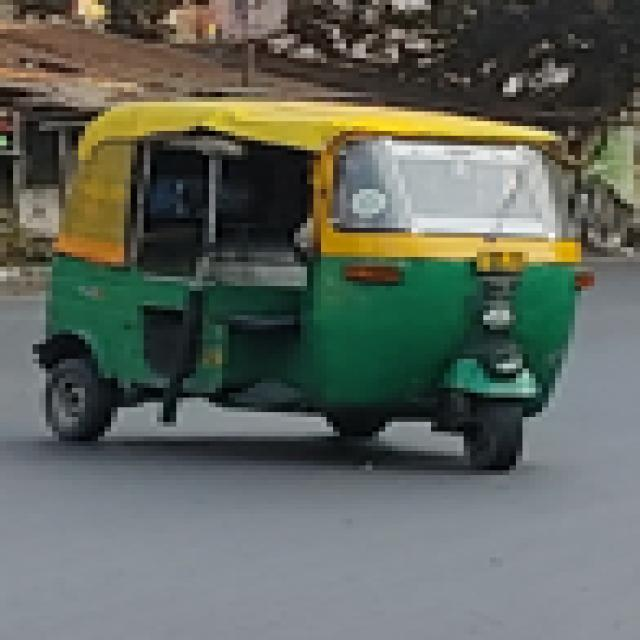autorickshaw: (34, 83, 588, 481)
